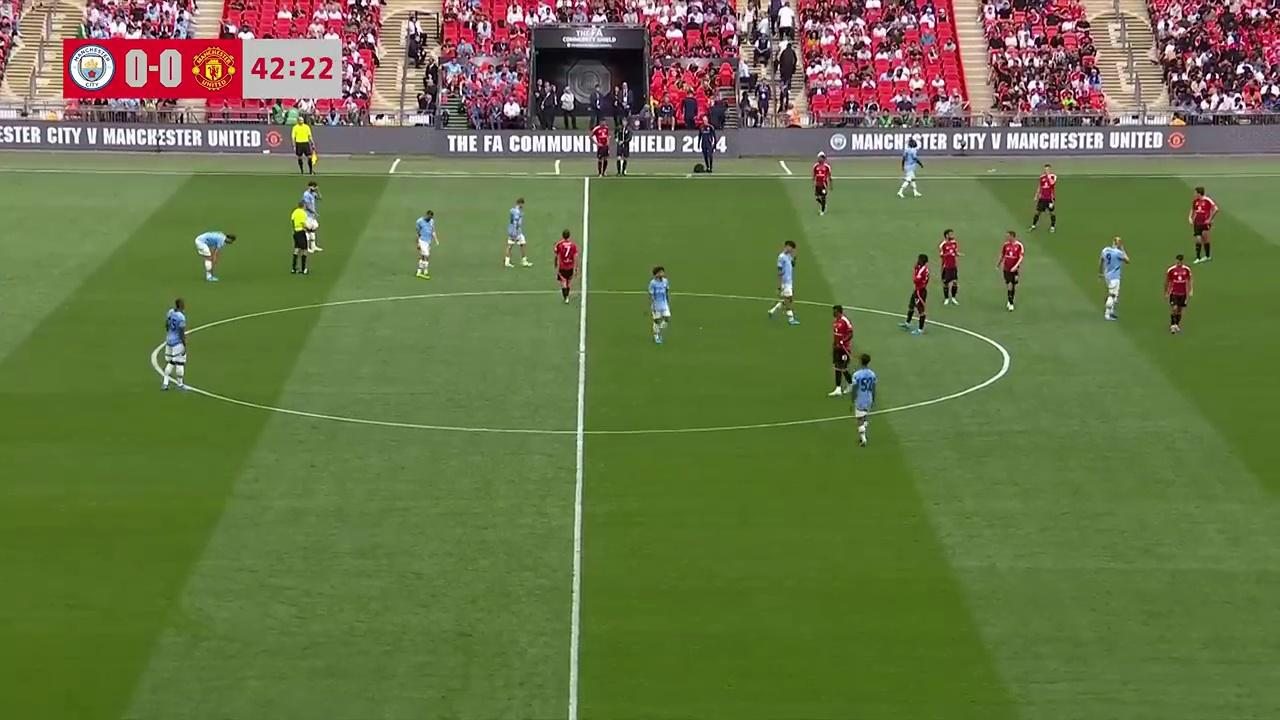player: (156, 297, 189, 391), (767, 240, 800, 325), (1098, 235, 1130, 321), (151, 322, 189, 391), (850, 354, 877, 445), (1187, 186, 1219, 262), (1163, 254, 1193, 334), (995, 230, 1025, 310), (900, 254, 930, 334), (828, 304, 853, 396), (937, 228, 963, 306), (646, 265, 671, 345), (1029, 164, 1057, 234), (164, 298, 190, 373), (503, 197, 530, 268), (195, 228, 231, 281), (553, 228, 578, 304), (414, 210, 440, 279), (202, 230, 237, 281), (289, 200, 311, 274), (302, 181, 323, 248), (897, 148, 922, 199), (812, 153, 832, 215), (593, 127, 609, 178)
referee: (289, 201, 311, 275), (292, 118, 312, 173)
